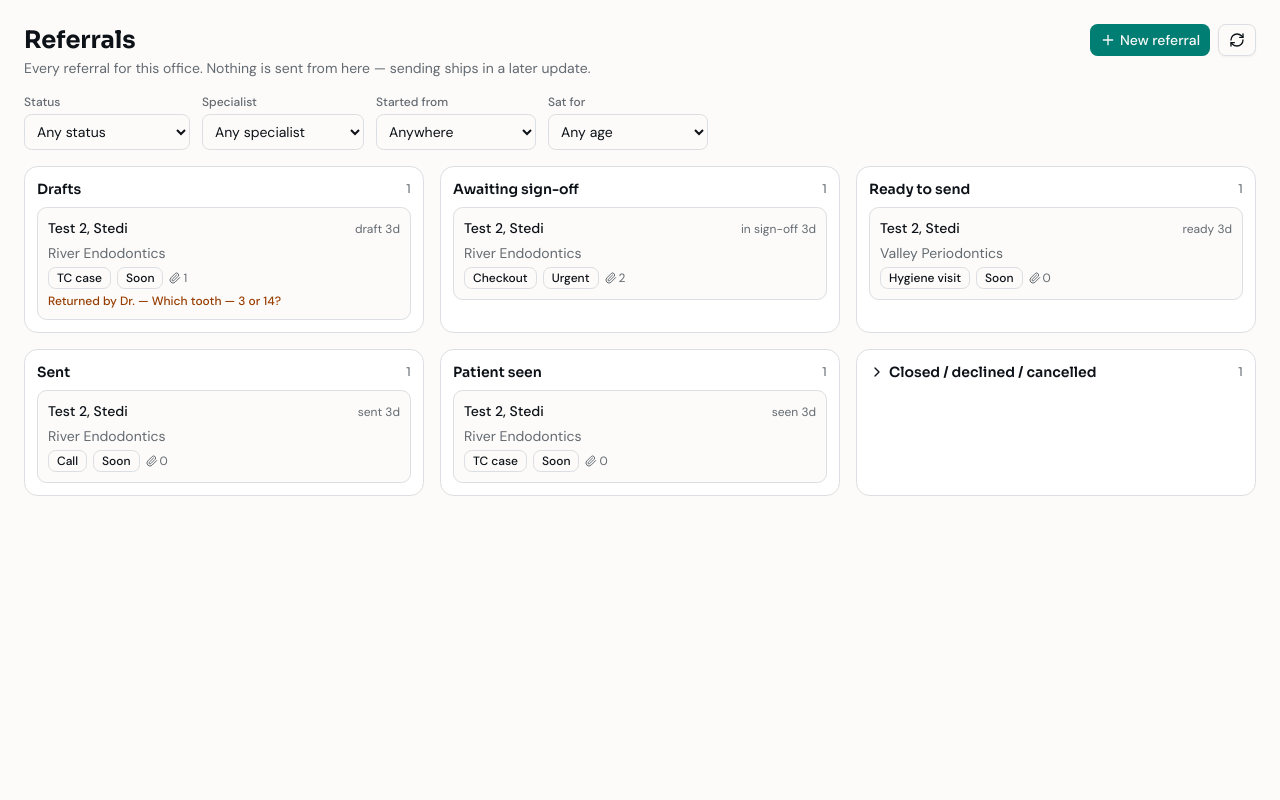
Test case: the detail panel › an approved one: 'Edit (re-approval needed)' reopens WITH the edit; 'Mark sent outside the app' needs how/where
Click the 3rd button with test id "tc-hub-card" at (920, 228), box [869,207,1243,300]
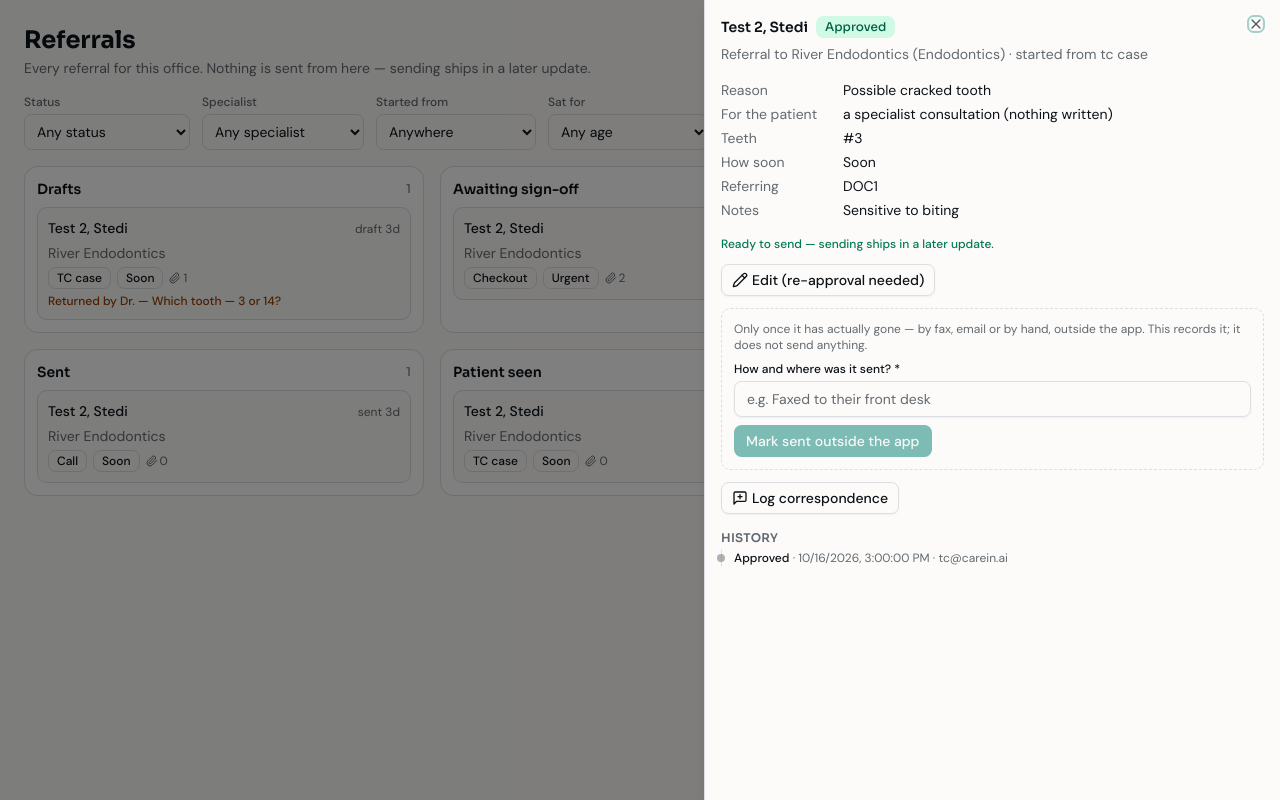
Check: the list with test id "referral-timeline" is shown, box [721,550,1264,566]
Check: the dialog with test id "tc-hub-detail" shows "Ready to send — sending ships in a later update.", box [721,236,994,252]
Check: the element with test id "tc-hub-mark" shows "it does not send anything", box [734,321,1241,353]
Type "Faxed to their front desk" into the field labelled "How and where was it sent? *" at (992, 399), box [734,381,1251,417]
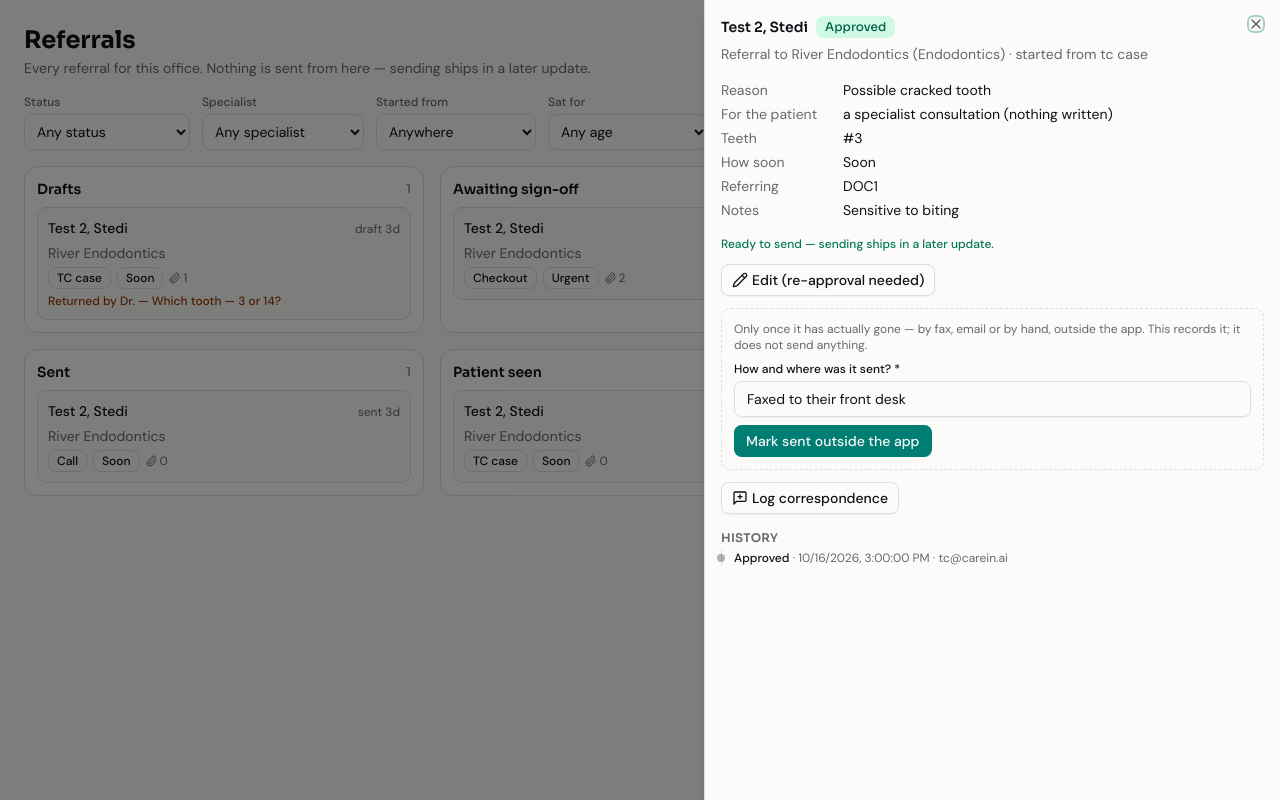
Check: the button "Mark sent outside the app" is enabled, box [734,425,932,457]
Click the button "Edit (re-approval needed)" at (828, 280), box [721,264,935,296]
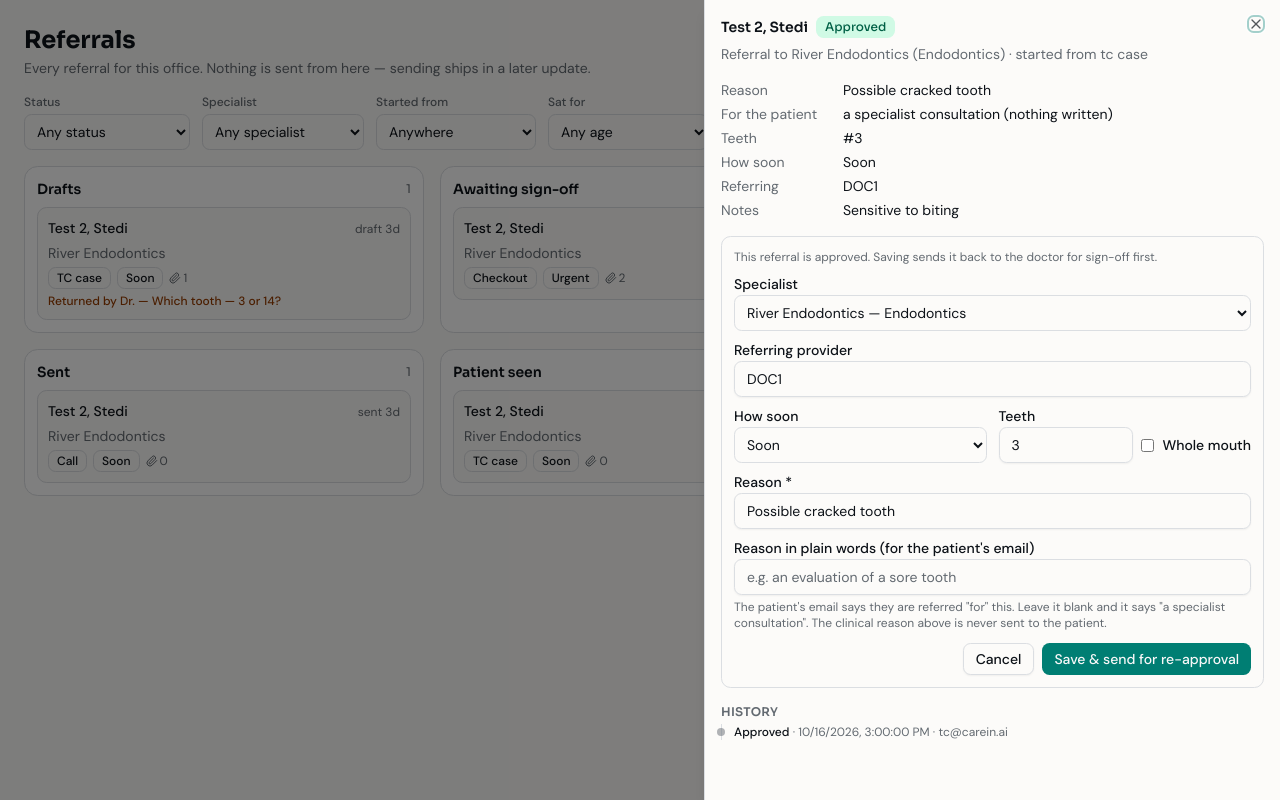
Check: the element with test id "referral-fields-form" shows "sends it back to the doctor for sign-off first", box [734,249,1157,265]
Select "Valley Periodontics — Periodontics" in the dropdown labelled "Specialist" at (992, 313), box [734,295,1251,331]
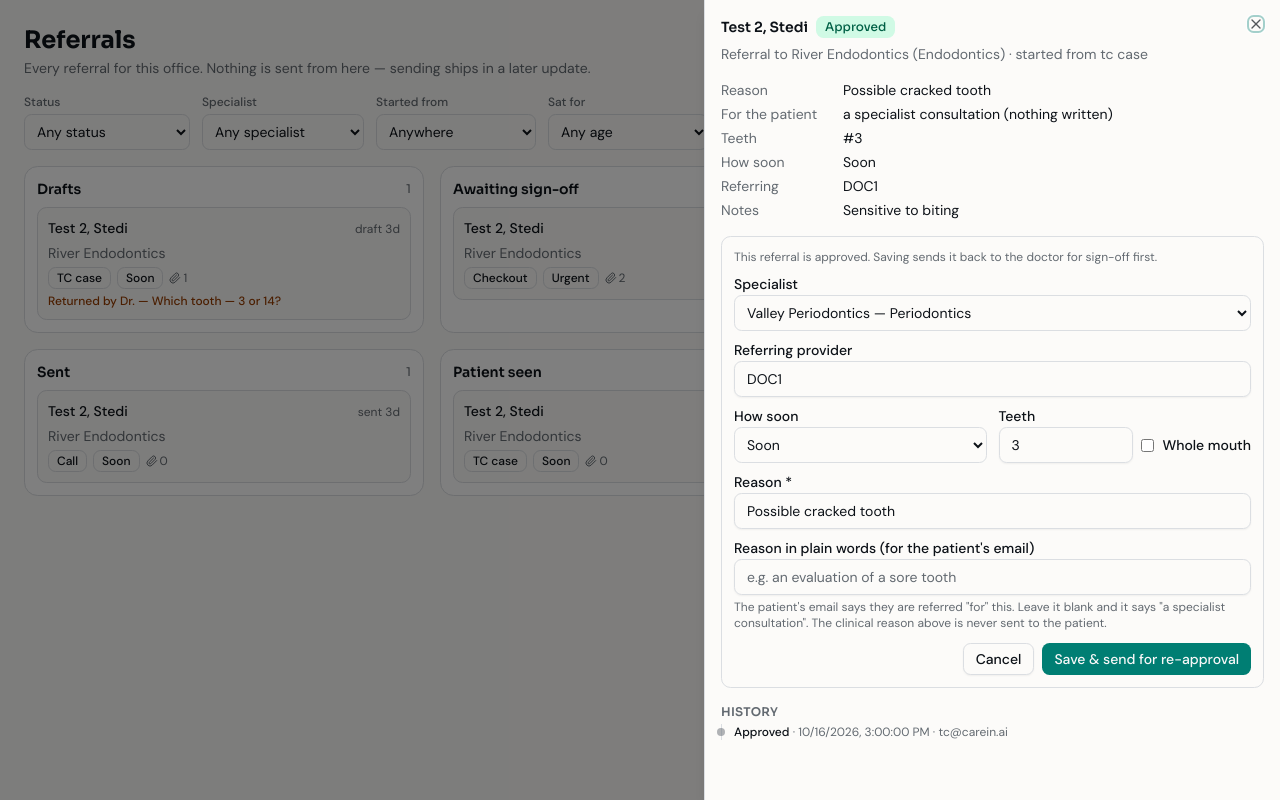
Click the button "Save & send for re-approval" at (1147, 659), box [1042,643,1251,675]
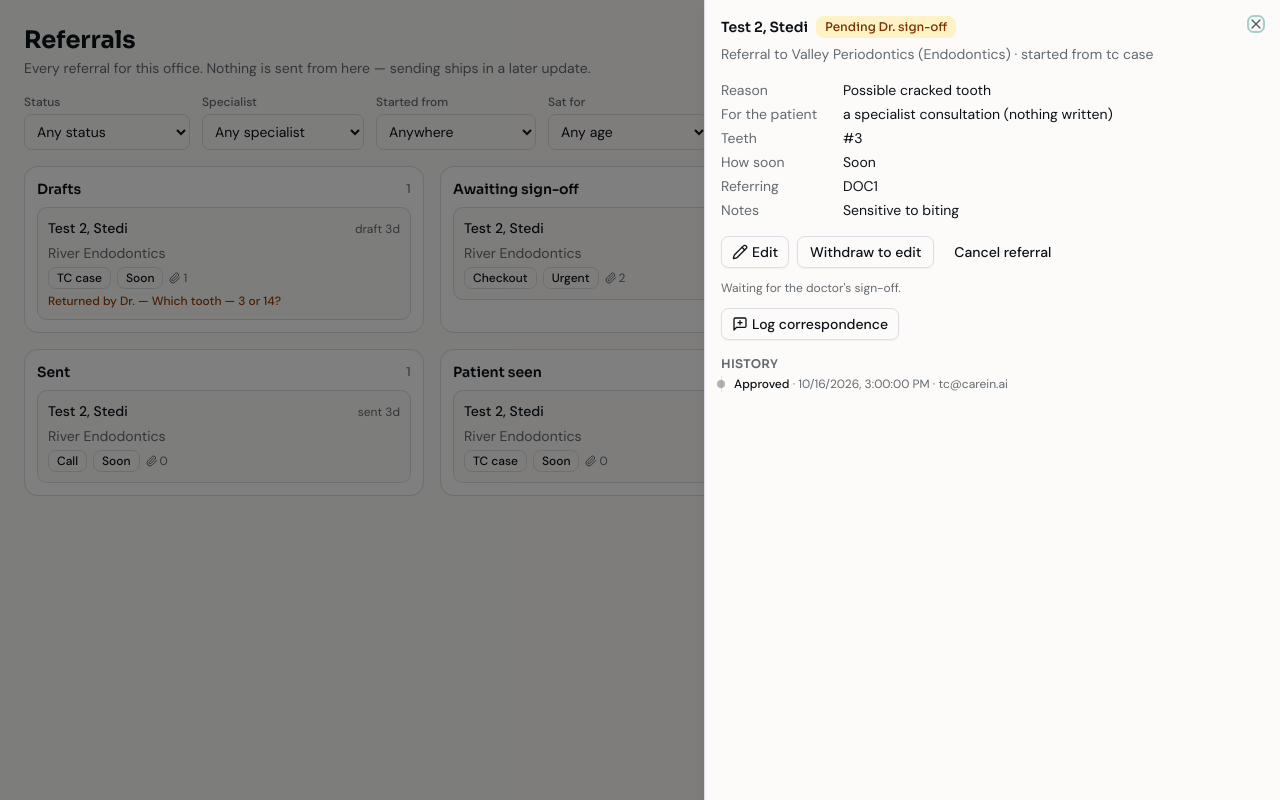
Check: the text with test id "tc-referral-status" reads "Pending Dr. sign-off", box [825,19,947,34]
